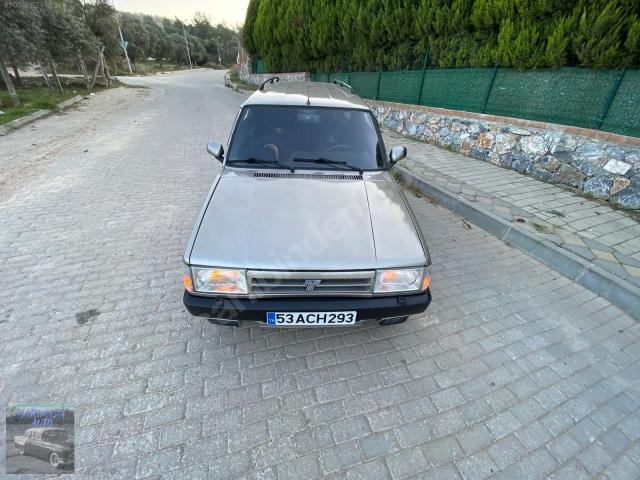plaka: (267, 311, 356, 326)
